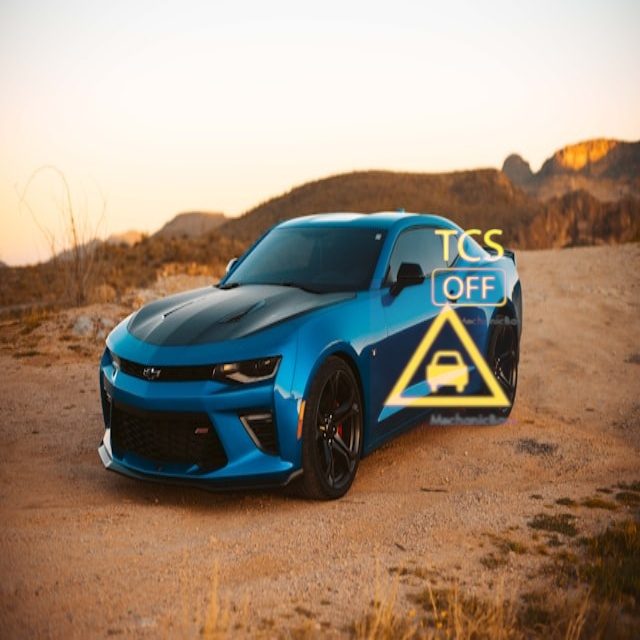symbol: (370, 279, 524, 433), (409, 208, 532, 331)
